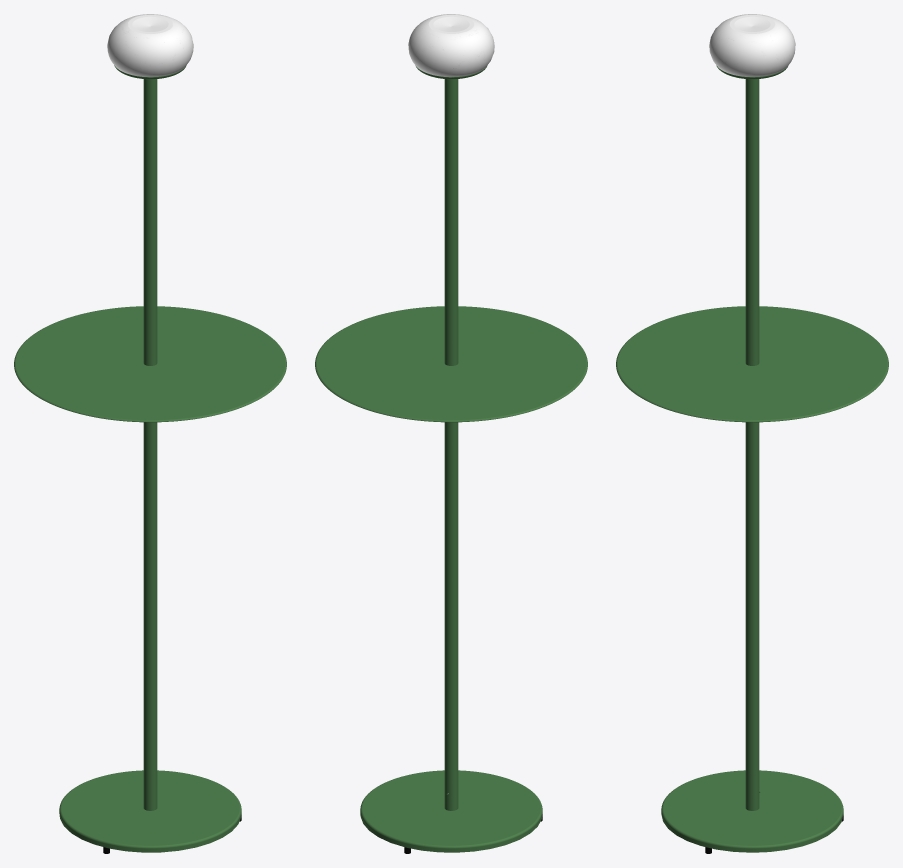
File: UPPER_GREEN.gltf
3 renders of one model, left to right at view 1: azimuth 30°, elevation 25°; view 2: azimuth 150°, elevation 25°; view 3: azimuth 270°, elevation 25°, orthographic.
Visible parts, largest first — view 1: /Users/seba/Desktop/ASSISTANT/2023-2024/S2/AGO Seoul Highlig (×4); view 2: /Users/seba/Desktop/ASSISTANT/2023-2024/S2/AGO Seoul Highlig (×4); view 3: /Users/seba/Desktop/ASSISTANT/2023-2024/S2/AGO Seoul Highlig (×4).
Boxes of the visible parts, box(x1,y1,x2,y2) form: /Users/seba/Desktop/ASSISTANT/2023-2024/S2/AGO Seoul Highlig (×4): box(14, 14, 286, 852); /Users/seba/Desktop/ASSISTANT/2023-2024/S2/AGO Seoul Highlig (×4): box(315, 14, 587, 852); /Users/seba/Desktop/ASSISTANT/2023-2024/S2/AGO Seoul Highlig (×4): box(616, 14, 888, 852).
Bounding box in the file's own units: 0.5991 × 1.93 × 0.5991.
Materials: 16 (1 with a texture image).
